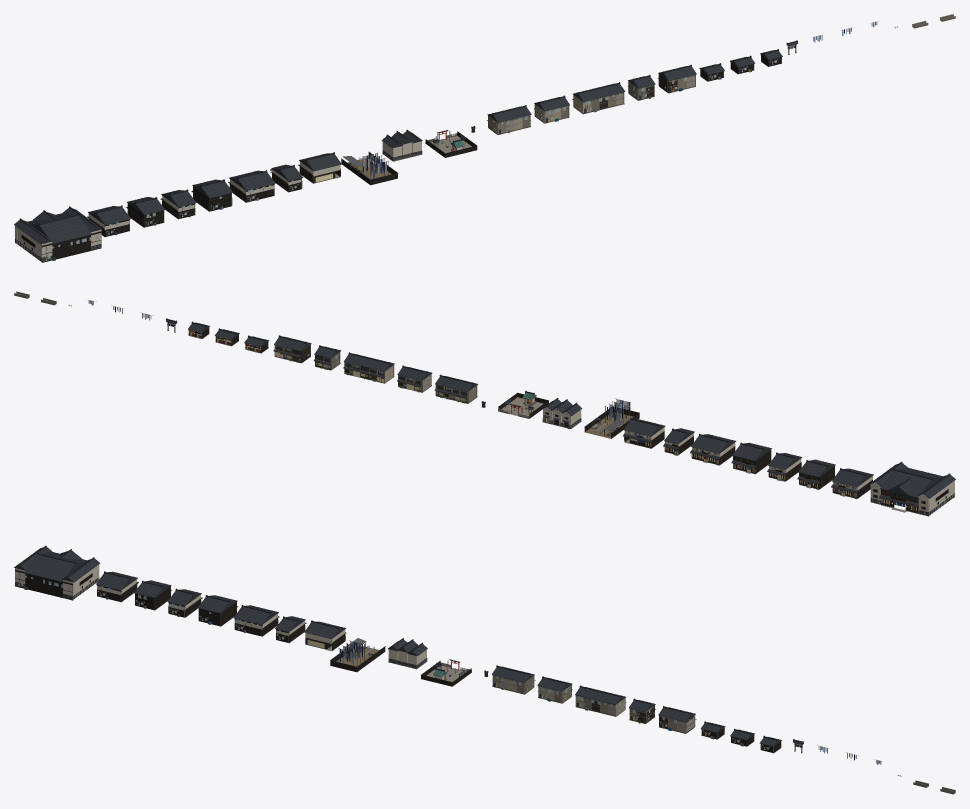
The model's file is aizome.glb.
The picture shows the model from 3 angles, top to bottom: view 1: azimuth 30°, elevation 25°; view 2: azimuth 150°, elevation 25°; view 3: azimuth 330°, elevation 25°; orthographic projection. The views are drawn at different scales.
Parts seen in each view (by area): view 1: aizome_ekisha_body, aizome_nagaya_c_body, aizome_machiya_e_body, aizome_yard_body, aizome_machiya_d_body, aizome_works_body, aizome_kura_body, aizome_nagaya_a_body, aizome_machiya_a_body, aizome_machiya_b_body, aizome_shrine_body, aizome_nagaya_e_body (+4 smaller); view 2: aizome_ekisha_body, aizome_yard_body, aizome_nagaya_c_body, aizome_machiya_e_body, aizome_machiya_d_body, aizome_machiya_a_body, aizome_works_body, aizome_nagaya_a_body, aizome_kura_body, aizome_shrine_body, aizome_machiya_b_body, aizome_nagaya_e_body (+4 smaller); view 3: aizome_ekisha_body, aizome_nagaya_c_body, aizome_machiya_e_body, aizome_yard_body, aizome_machiya_d_body, aizome_machiya_a_body, aizome_works_body, aizome_kura_body, aizome_nagaya_a_body, aizome_machiya_b_body, aizome_shrine_body, aizome_nagaya_e_body (+3 smaller).
Boxes of the visible parts, bbox=[...] form: aizome_ekisha_body: bbox=[14, 206, 102, 262]; aizome_nagaya_c_body: bbox=[572, 82, 625, 114]; aizome_machiya_e_body: bbox=[228, 170, 275, 202]; aizome_yard_body: bbox=[341, 152, 397, 185]; aizome_machiya_d_body: bbox=[191, 179, 232, 211]; aizome_works_body: bbox=[298, 152, 341, 183]; aizome_kura_body: bbox=[382, 129, 422, 161]; aizome_nagaya_a_body: bbox=[487, 105, 531, 134]; aizome_machiya_a_body: bbox=[87, 205, 130, 236]; aizome_machiya_b_body: bbox=[125, 197, 165, 227]; aizome_shrine_body: bbox=[425, 130, 477, 157]; aizome_nagaya_e_body: bbox=[657, 64, 696, 93]; aizome_ekisha_body: bbox=[870, 461, 955, 516]; aizome_yard_body: bbox=[584, 398, 639, 438]; aizome_nagaya_c_body: bbox=[343, 352, 394, 383]; aizome_machiya_e_body: bbox=[690, 433, 736, 465]; aizome_machiya_d_body: bbox=[731, 442, 771, 474]; aizome_machiya_a_body: bbox=[831, 468, 873, 498]; aizome_works_body: bbox=[623, 418, 665, 448]; aizome_nagaya_a_body: bbox=[434, 374, 477, 403]; aizome_kura_body: bbox=[542, 398, 581, 429]; aizome_shrine_body: bbox=[498, 390, 548, 418]; aizome_machiya_b_body: bbox=[797, 459, 835, 489]; aizome_nagaya_e_body: bbox=[273, 335, 311, 363]; aizome_ekisha_body: bbox=[14, 545, 100, 600]; aizome_nagaya_c_body: bbox=[575, 685, 626, 716]; aizome_machiya_e_body: bbox=[233, 605, 279, 636]; aizome_yard_body: bbox=[330, 638, 385, 672]; aizome_machiya_d_body: bbox=[198, 595, 238, 626]; aizome_machiya_a_body: bbox=[96, 571, 138, 602]; aizome_works_body: bbox=[304, 620, 346, 651]; aizome_kura_body: bbox=[388, 638, 427, 669]; aizome_nagaya_a_body: bbox=[492, 665, 535, 694]; aizome_machiya_b_body: bbox=[134, 580, 172, 610]; aizome_shrine_body: bbox=[421, 659, 471, 686]; aizome_nagaya_e_body: bbox=[658, 706, 696, 733].
Size of the model in its own units: 409 by 12.22 by 23.77.
